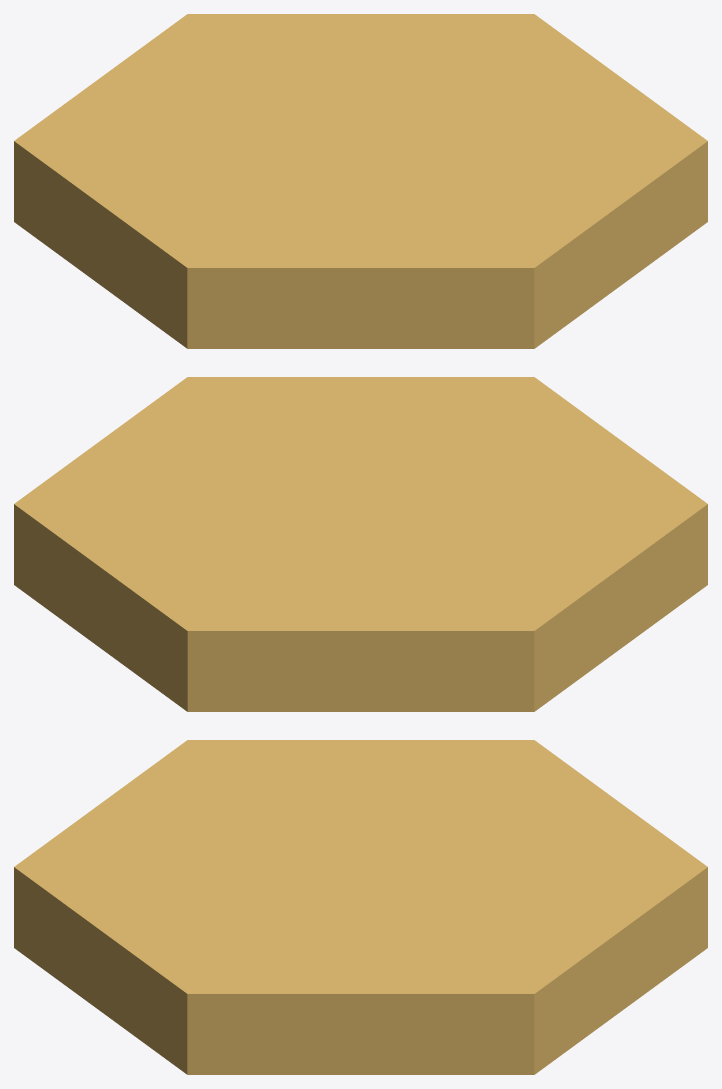
File: sand.glb
3 views of the same model, one above another, from view 1: azimuth 30°, elevation 25°; view 2: azimuth 150°, elevation 25°; view 3: azimuth 270°, elevation 25° (orthographic).
Parts seen in each view (by area): view 1: песок; view 2: песок; view 3: песок.
Boxes of the visible parts, x1,y1,x2,y2 form: песок: [14, 14, 707, 348]; песок: [14, 377, 707, 711]; песок: [14, 740, 707, 1074].
Size of the model in its own units: 4.79 by 0.7115 by 5.53.
1 material, 1 textured.
